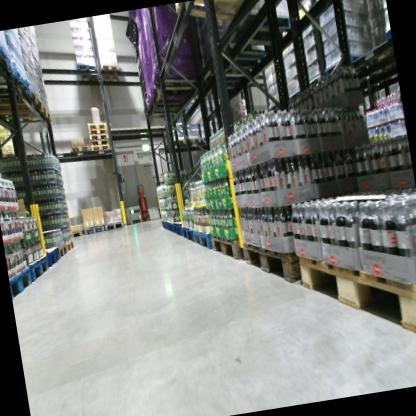pallet: (295, 229, 416, 352), (210, 3, 300, 59), (241, 231, 304, 291), (175, 0, 266, 35), (145, 62, 205, 111), (319, 50, 377, 85), (0, 93, 53, 128), (0, 81, 43, 119), (0, 61, 34, 103), (210, 228, 245, 268), (7, 264, 34, 300), (75, 56, 102, 90), (0, 32, 19, 77), (96, 60, 124, 89), (299, 70, 326, 97), (27, 255, 52, 283), (281, 86, 306, 110), (191, 226, 213, 251), (66, 139, 92, 159), (43, 245, 62, 267), (89, 141, 113, 156), (84, 118, 107, 131), (82, 222, 105, 235), (102, 219, 126, 231), (52, 243, 68, 261), (180, 224, 194, 244), (171, 221, 184, 241), (88, 135, 109, 147), (88, 131, 110, 142), (87, 125, 107, 135), (69, 229, 85, 240), (384, 24, 392, 45), (65, 238, 76, 252), (159, 218, 169, 232), (166, 219, 174, 232)
